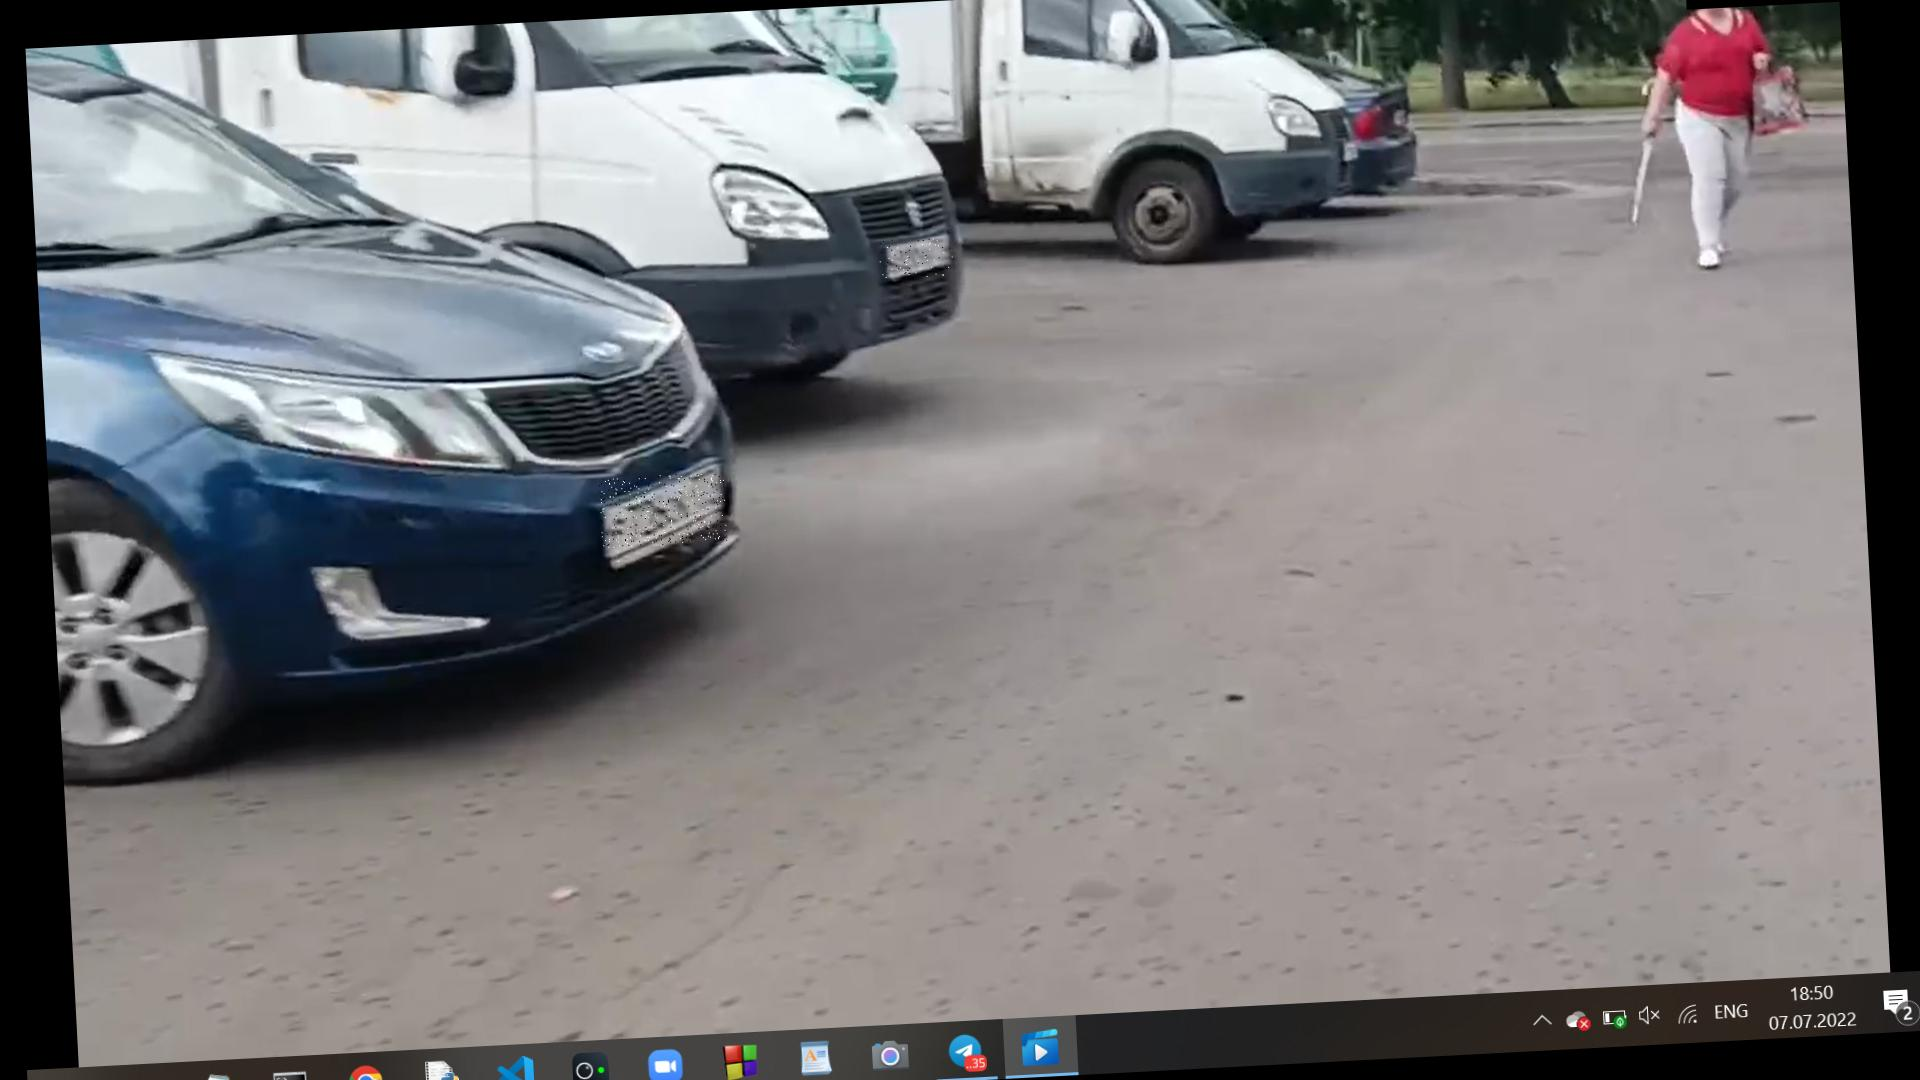plate: (599, 473, 729, 549), (877, 237, 955, 282)
